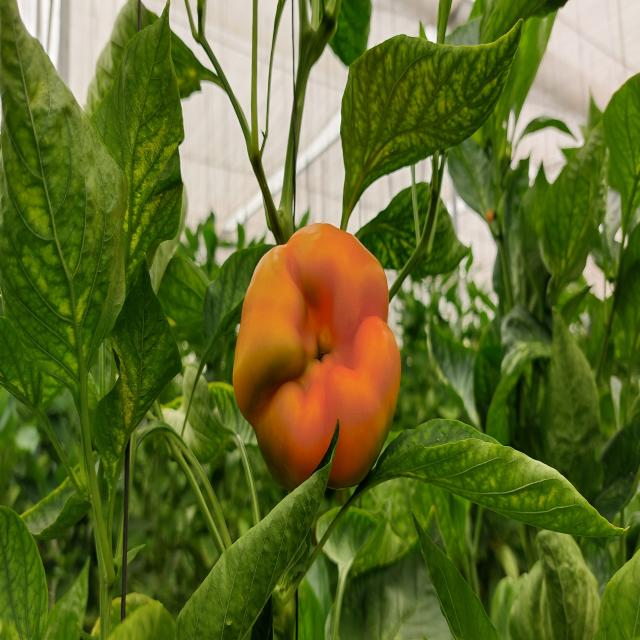Yellow-Ready-to-Harvest: (232, 220, 402, 493)
